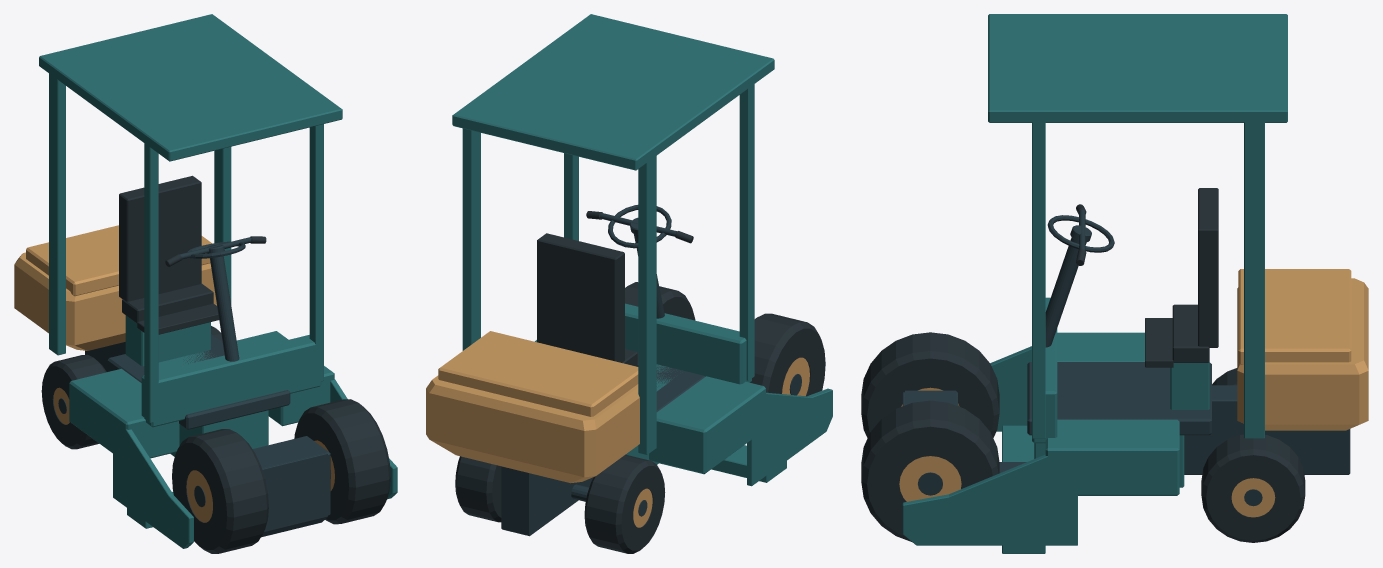
The model's file is forklift-cab-stage.glb.
3 views of the same model, side by side, from view 1: azimuth 30°, elevation 25°; view 2: azimuth 150°, elevation 25°; view 3: azimuth 270°, elevation 25° (orthographic). The views are drawn at different scales.
Visible parts, largest first — view 1: forklift-cab-stage__batch_01, forklift-cab-stage__batch_00, forklift-cab-stage__batch_17, forklift-cab-stage__batch_02, forklift-cab-stage__batch_13, forklift-cab-stage__batch_16, forklift-cab-stage__batch_05, forklift-cab-stage__batch_12, forklift-cab-stage__batch_10; view 2: forklift-cab-stage__batch_01, forklift-cab-stage__batch_02, forklift-cab-stage__batch_17, forklift-cab-stage__batch_05, forklift-cab-stage__batch_00, forklift-cab-stage__batch_13, forklift-cab-stage__batch_08, forklift-cab-stage__batch_16, forklift-cab-stage__batch_10, forklift-cab-stage__batch_12; view 3: forklift-cab-stage__batch_01, forklift-cab-stage__batch_02, forklift-cab-stage__batch_00, forklift-cab-stage__batch_16, forklift-cab-stage__batch_13, forklift-cab-stage__batch_08, forklift-cab-stage__batch_17, forklift-cab-stage__batch_15, forklift-cab-stage__batch_10, forklift-cab-stage__batch_07.
Boxes of the visible parts, <box> form: forklift-cab-stage__batch_01: <box>39,14,397,548</box>; forklift-cab-stage__batch_00: <box>85,256,331,537</box>; forklift-cab-stage__batch_17: <box>119,175,219,334</box>; forklift-cab-stage__batch_02: <box>14,225,216,350</box>; forklift-cab-stage__batch_13: <box>172,429,268,553</box>; forklift-cab-stage__batch_16: <box>294,399,390,524</box>; forklift-cab-stage__batch_05: <box>41,354,106,449</box>; forklift-cab-stage__batch_12: <box>186,470,212,522</box>; forklift-cab-stage__batch_10: <box>179,237,251,259</box>; forklift-cab-stage__batch_01: <box>452,14,832,486</box>; forklift-cab-stage__batch_02: <box>426,331,639,483</box>; forklift-cab-stage__batch_17: <box>537,233,638,366</box>; forklift-cab-stage__batch_05: <box>584,454,665,553</box>; forklift-cab-stage__batch_00: <box>501,234,704,536</box>; forklift-cab-stage__batch_13: <box>750,313,825,396</box>; forklift-cab-stage__batch_08: <box>455,456,501,522</box>; forklift-cab-stage__batch_16: <box>625,282,695,320</box>; forklift-cab-stage__batch_10: <box>600,205,676,248</box>; forklift-cab-stage__batch_12: <box>782,357,809,396</box>; forklift-cab-stage__batch_01: <box>902,14,1287,553</box>; forklift-cab-stage__batch_02: <box>1237,269,1368,430</box>; forklift-cab-stage__batch_00: <box>902,237,1350,474</box>; forklift-cab-stage__batch_16: <box>861,400,999,541</box>; forklift-cab-stage__batch_13: <box>861,332,999,437</box>; forklift-cab-stage__batch_08: <box>1201,434,1305,542</box>; forklift-cab-stage__batch_17: <box>1145,188,1218,367</box>; forklift-cab-stage__batch_15: <box>899,456,961,501</box>; forklift-cab-stage__batch_10: <box>1047,209,1114,252</box>; forklift-cab-stage__batch_07: <box>1231,478,1275,517</box>.
Bounding box in the file's own units: 1.2 × 2.1 × 2.2.
